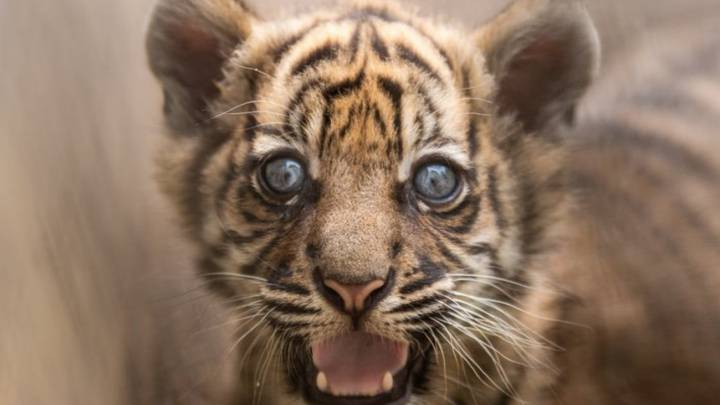Tigrew: (133, 4, 599, 402)
